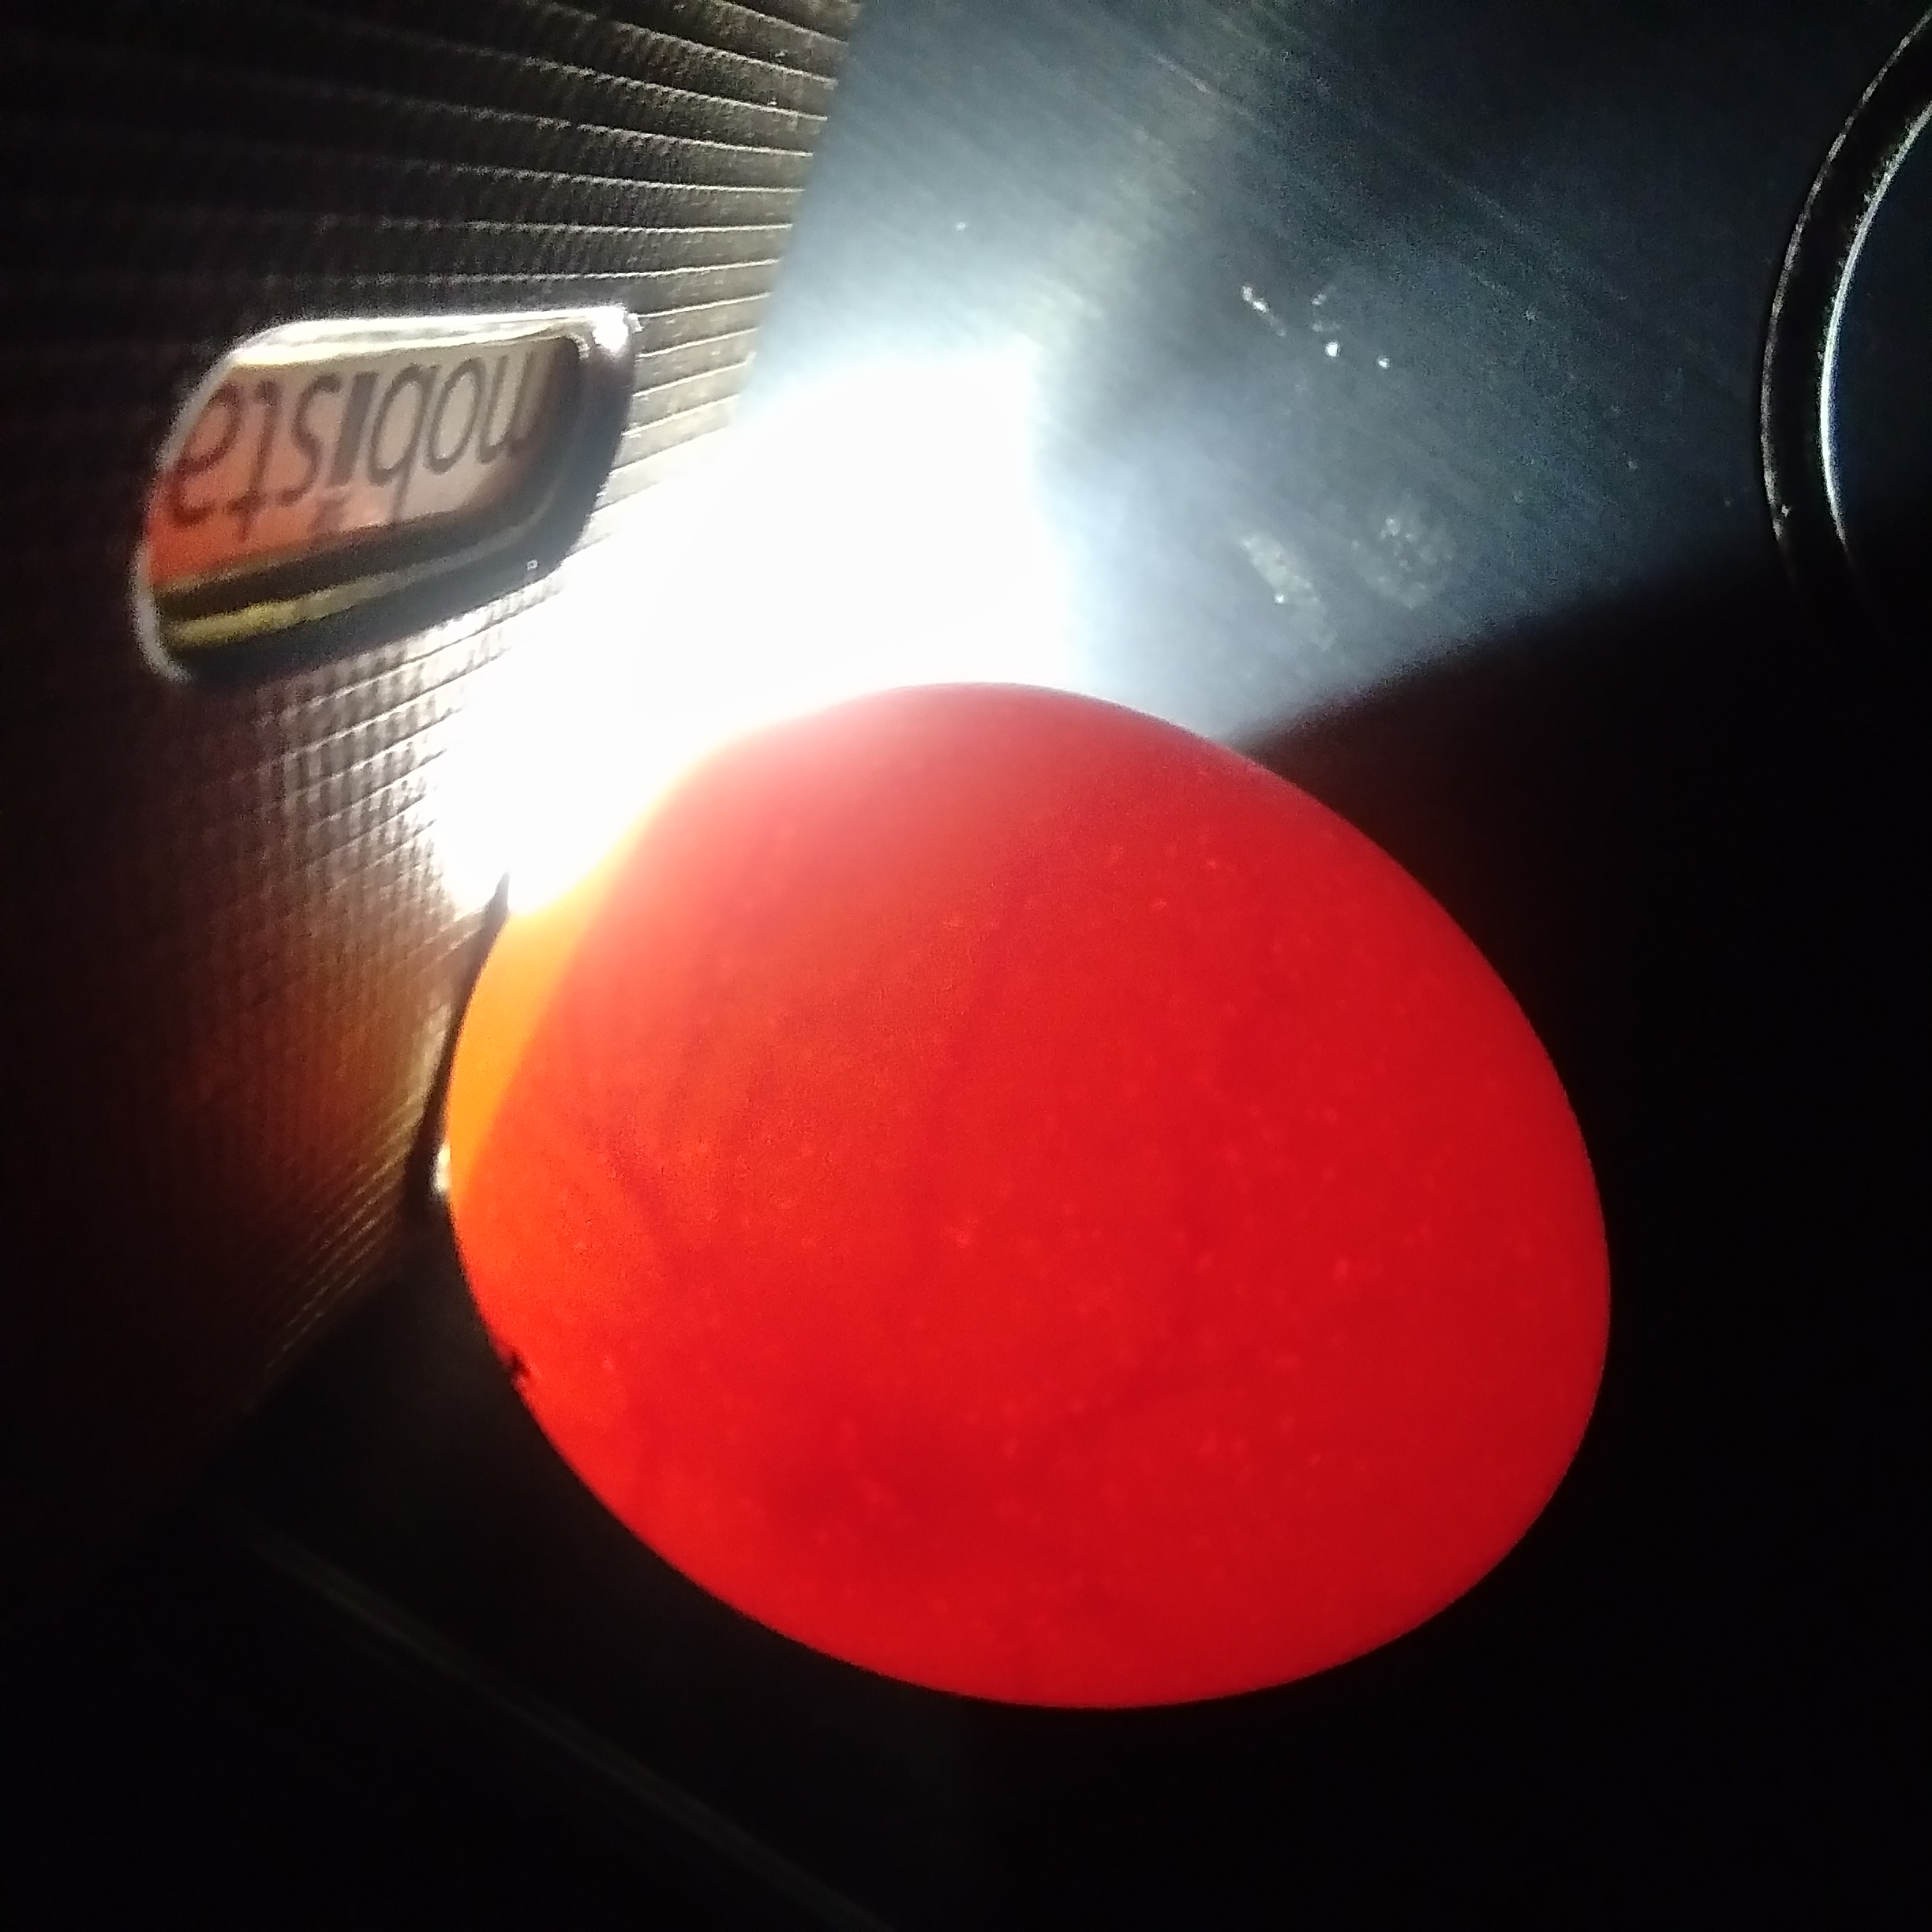bloodcell: (939, 1039, 1283, 1408), (584, 1007, 890, 1246)
embryo: (798, 1428, 975, 1624)
